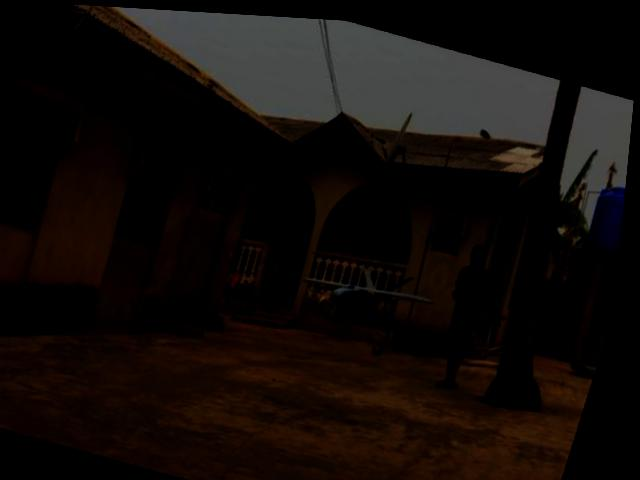iha: (291, 242, 452, 344)
